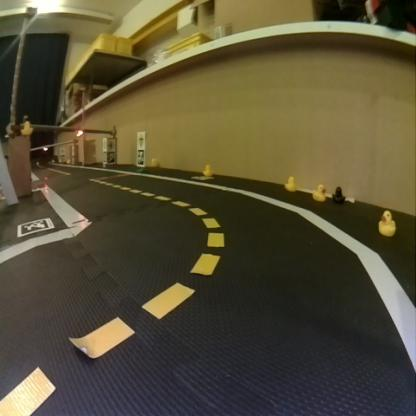Duckie: (378, 210, 396, 235), (312, 184, 325, 199), (284, 176, 294, 191), (22, 121, 31, 134), (204, 164, 212, 174), (151, 158, 155, 166)
Intersection sign: (137, 132, 144, 146), (107, 139, 113, 150)
QR code: (18, 217, 53, 235), (137, 149, 143, 165), (107, 152, 113, 162)
Traffic light: (75, 128, 81, 136), (43, 146, 49, 154)
